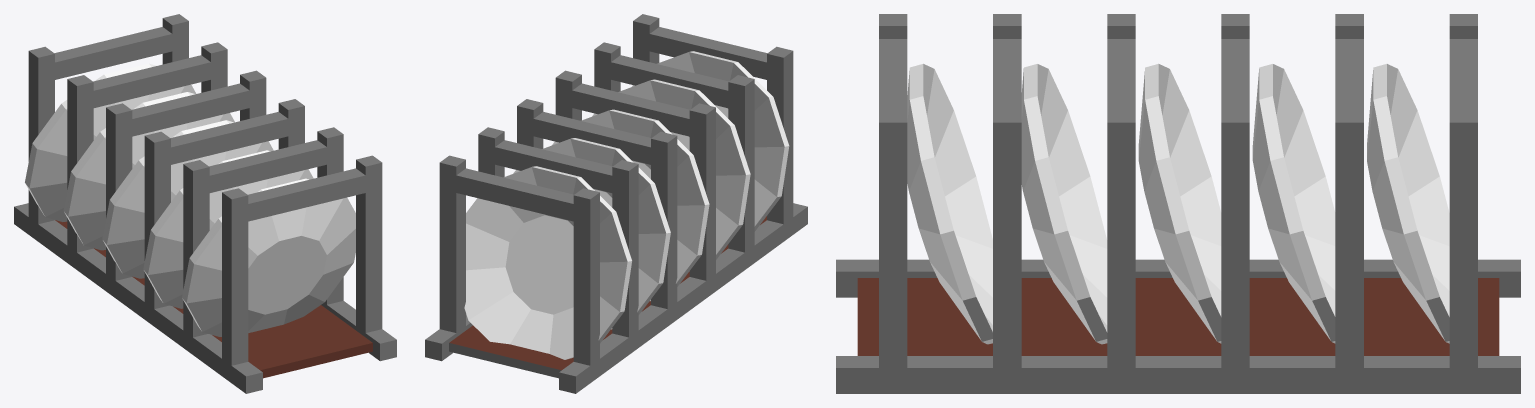
The model's file is dishes_clean.gltf.
The picture shows the model from 3 angles, left to right: view 1: azimuth 30°, elevation 25°; view 2: azimuth 150°, elevation 25°; view 3: azimuth 270°, elevation 25°; orthographic projection. The views are drawn at different scales.
Parts seen in each view (by area): view 1: cuboid (×20), cylinder (×5), base; view 2: cuboid (×20), cylinder (×5), base; view 3: cuboid (×20), cylinder (×5), base.
Boxes of the visible parts, x1,y1,x2,y2 form: cuboid (×20): (14,14,396,393); cylinder (×5): (25,63,355,336); base: (55,220,372,378); cuboid (×20): (425,14,807,393); cylinder (×5): (464,51,789,359); base: (449,216,766,378); cuboid (×20): (836,14,1520,393); cylinder (×5): (907,63,1449,344); base: (857,278,1499,355).
Size of the model in its own units: 0.0625 by 0.0656 by 0.15.
Materials: 2 (2 with a texture image).
